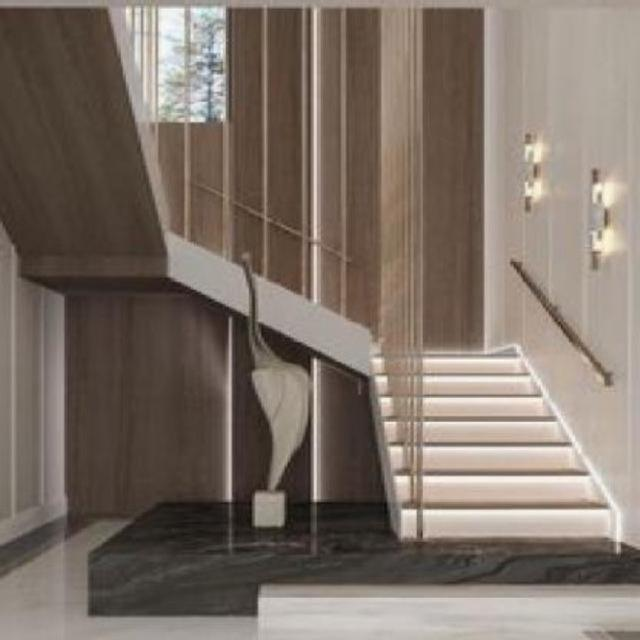stair: (282, 302, 626, 558)
